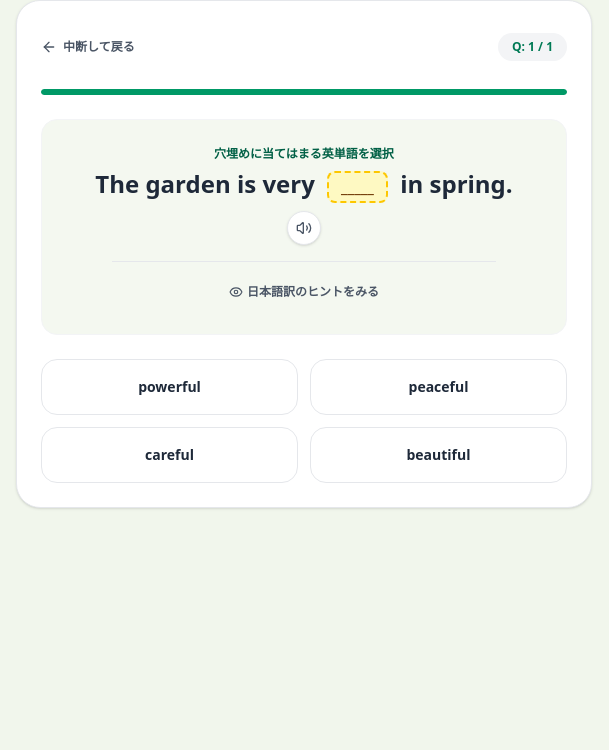
解答 › 答えたら、正解の語を穴に入れて和訳と一緒に見せる
This screenshot has width=609, height=750.
Click the button "careful" at (170, 455), box [41,427,298,483]
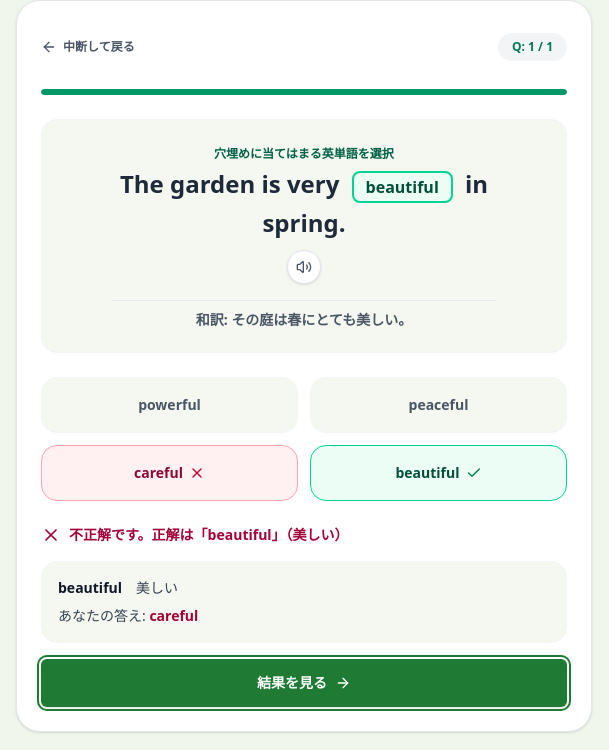
Now the text with test id "sentence_hole" reads "beautiful", box [366,176,439,198]
Now the text "和訳: その庭は春にとても美しい。" is shown, box [196,310,412,329]
Now the element with id "answer_feedback" shows "あなたの答え: careful", box [41,525,567,707]
